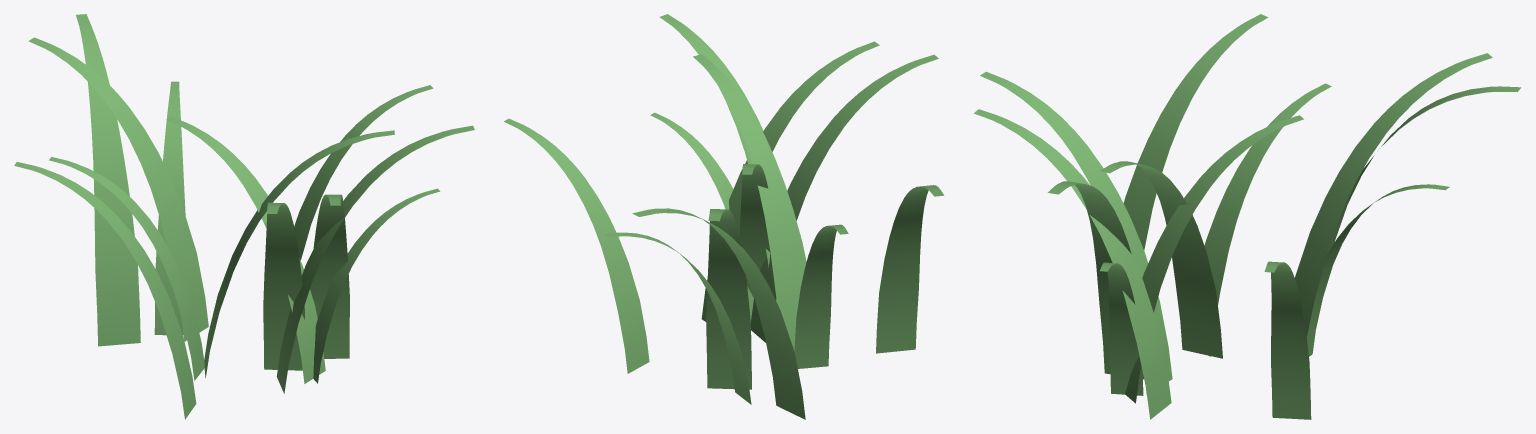
File: grass_tuft_03.fbx
3 renders of one model, left to right at view 1: azimuth 30°, elevation 25°; view 2: azimuth 150°, elevation 25°; view 3: azimuth 270°, elevation 25°, orthographic. The views are drawn at different scales.
Visible parts, largest first — view 1: Grass3; view 2: Grass3; view 3: Grass3.
Boxes of the visible parts, <box> form: Grass3: <box>14,14,474,419</box>; Grass3: <box>504,14,944,419</box>; Grass3: <box>973,14,1520,419</box>.
Size of the model in its own units: 67.13 by 37.68 by 67.93.
